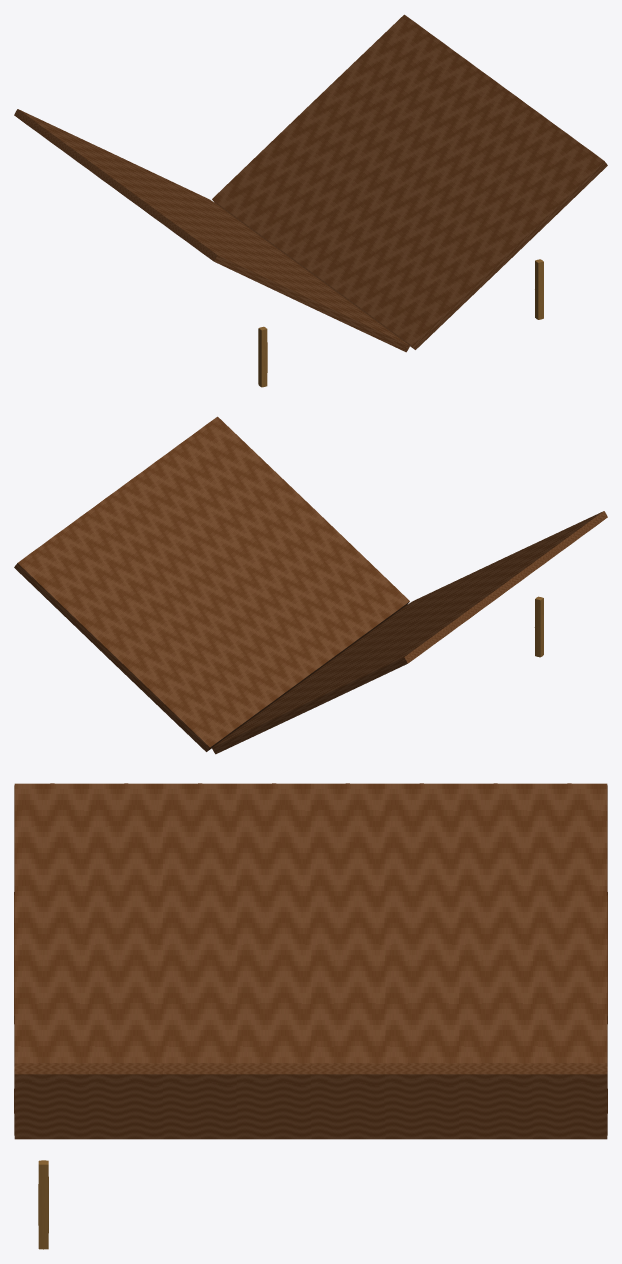
3 renders of one model, top to bottom at view 1: azimuth 30°, elevation 25°; view 2: azimuth 150°, elevation 25°; view 3: azimuth 270°, elevation 25°, orthographic. The views are drawn at different scales.
Parts seen in each view (by area): view 1: wood.15, wood.8, wood.12, wood.13, wood.10, wood.11, wood.14, wood.9, wood.7, wood.0, wood.1, wood.6 (+6 smaller); view 2: wood.8, wood.15, wood.13, wood.9, wood.14, wood.12, wood.10, wood.11, wood.0, wood.7, wood.2, wood.6 (+5 smaller); view 3: wood.0, wood.7, wood.3, wood.4, wood.1, wood.2, wood.6, wood.5, wood.8, wood.15, wood.11, wood.12 (+5 smaller).
Boxes of the visible parts, x1,y1,x2,y2 form: wood.15: (387,142,607,349); wood.8: (212,14,428,220); wood.12: (312,87,528,293); wood.13: (337,106,553,311); wood.10: (262,51,478,256); wood.11: (287,69,503,275); wood.14: (362,124,578,330); wood.9: (237,33,453,238); wood.7: (189,237,409,352); wood.0: (14,109,234,217); wood.1: (39,127,258,235); wood.6: (164,218,383,326); wood.8: (14,544,234,751); wood.15: (193,416,409,622); wood.13: (143,453,359,659); wood.9: (43,526,259,732); wood.14: (167,435,384,640); wood.12: (118,471,334,677); wood.10: (68,508,284,714); wood.11: (93,490,309,695); wood.0: (212,639,432,754); wood.7: (387,511,607,619); wood.2: (263,602,482,710); wood.6: (362,529,582,637); wood.0: (532,783,607,1066); wood.7: (14,783,89,1066); wood.3: (310,783,385,1063); wood.4: (236,783,311,1063); wood.1: (458,783,532,1063); wood.2: (384,783,458,1063); wood.6: (89,783,163,1063); wood.5: (163,783,237,1063); wood.8: (532,1063,607,1139); wood.15: (14,1063,89,1139); wood.11: (310,1063,385,1139); wood.12: (236,1063,311,1139).
Size of the model in its own units: 2.19 by 0.8049 by 1.93.
2 materials, 2 textured.
